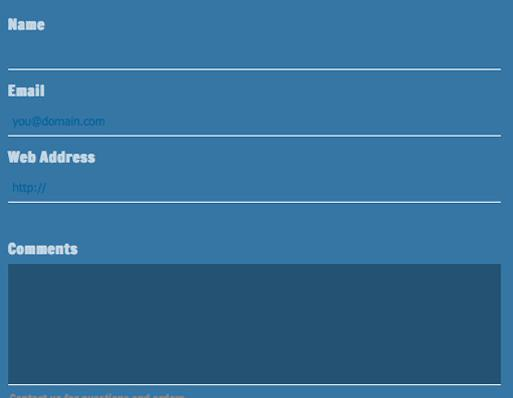field: (5, 261, 506, 387)
field_line: (5, 16, 506, 75), (3, 82, 503, 141), (3, 148, 503, 207)
